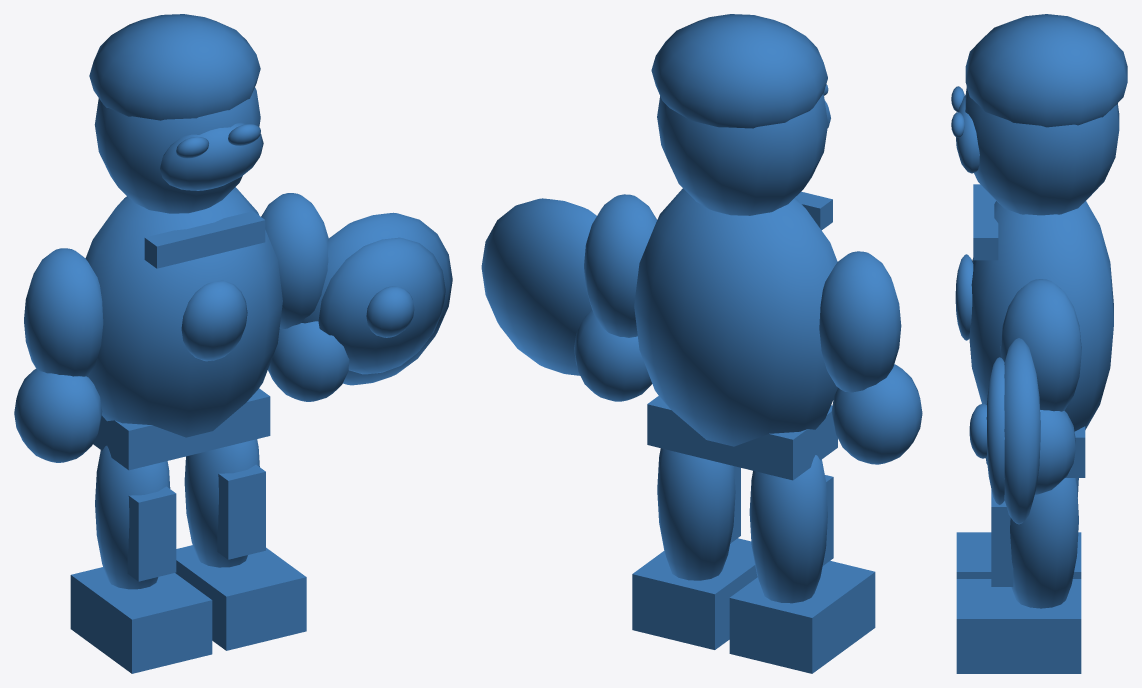
File: cap.glb
The picture shows the model from 3 angles, left to right: view 1: azimuth 30°, elevation 25°; view 2: azimuth 150°, elevation 25°; view 3: azimuth 270°, elevation 25°; orthographic projection. The views are drawn at different scales.
Parts seen in each view (by area): view 1: cap-hero; view 2: cap-hero; view 3: cap-hero.
Boxes of the visible parts, x1,y1,x2,y2 form: cap-hero: [14, 14, 452, 673]; cap-hero: [481, 14, 922, 673]; cap-hero: [951, 14, 1127, 673].
Bounding box in the file's own units: 1.81 × 2.41 × 0.6369.
